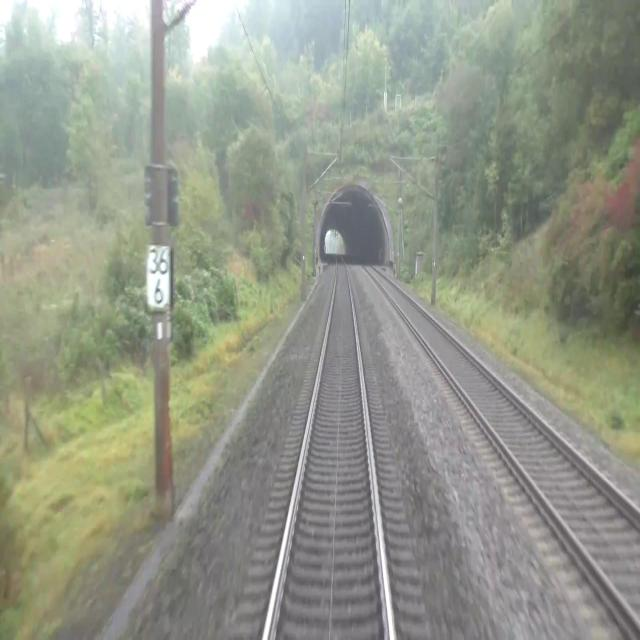rail-track: (365, 265, 640, 619), (267, 254, 390, 639)
